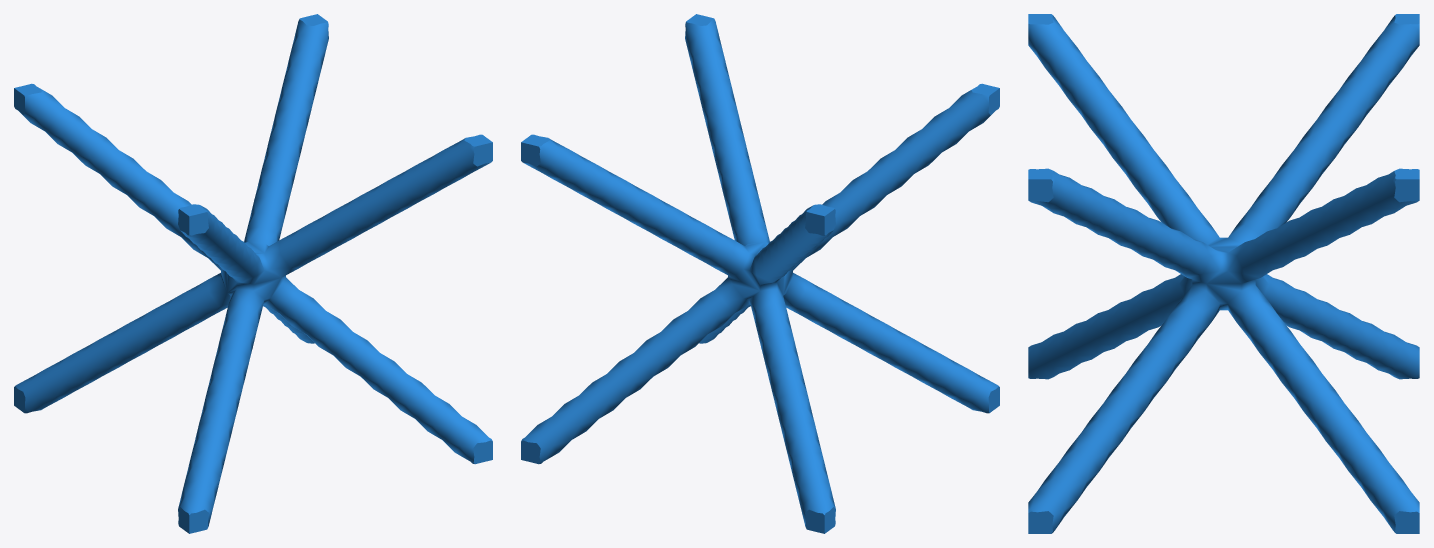
Rendered from Variante1.glb.
3 renders of one model, left to right at view 1: azimuth 30°, elevation 25°; view 2: azimuth 150°, elevation 25°; view 3: azimuth 270°, elevation 25°, orthographic. The views are drawn at different scales.
Visible parts, largest first — view 1: Mesh_0.007; view 2: Mesh_0.007; view 3: Mesh_0.007.
Boxes of the visible parts, bbox=[...] form: Mesh_0.007: bbox=[14, 14, 492, 533]; Mesh_0.007: bbox=[521, 14, 999, 533]; Mesh_0.007: bbox=[1028, 14, 1419, 533].
Bounding box in the file's own units: 1 × 1 × 1.
